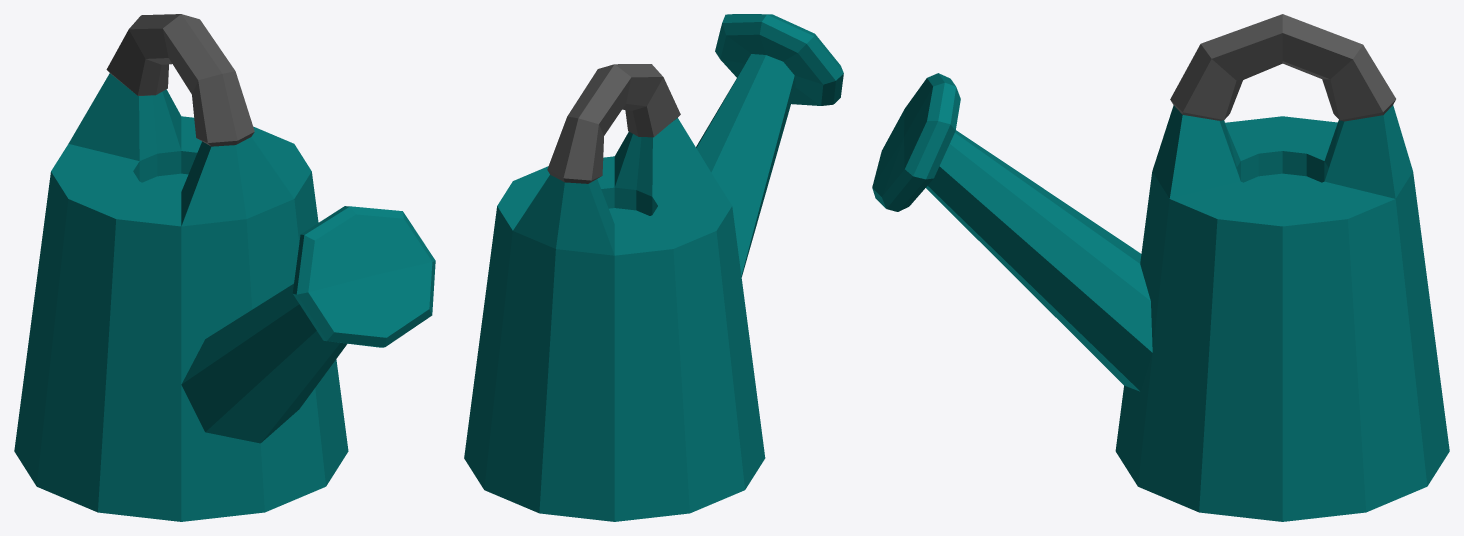
File: watering_can.fbx
3 renders of one model, left to right at view 1: azimuth 30°, elevation 25°; view 2: azimuth 150°, elevation 25°; view 3: azimuth 270°, elevation 25°, orthographic. The views are drawn at different scales.
Parts seen in each view (by area): view 1: watering_can; view 2: watering_can; view 3: watering_can.
Boxes of the visible parts, x1=… form: watering_can: x1=14, y1=14, x2=435, y2=521; watering_can: x1=464, y1=14, x2=843, y2=521; watering_can: x1=872, y1=14, x2=1449, y2=521.
Bounding box in the file's own units: 96.21 × 139 × 166.
